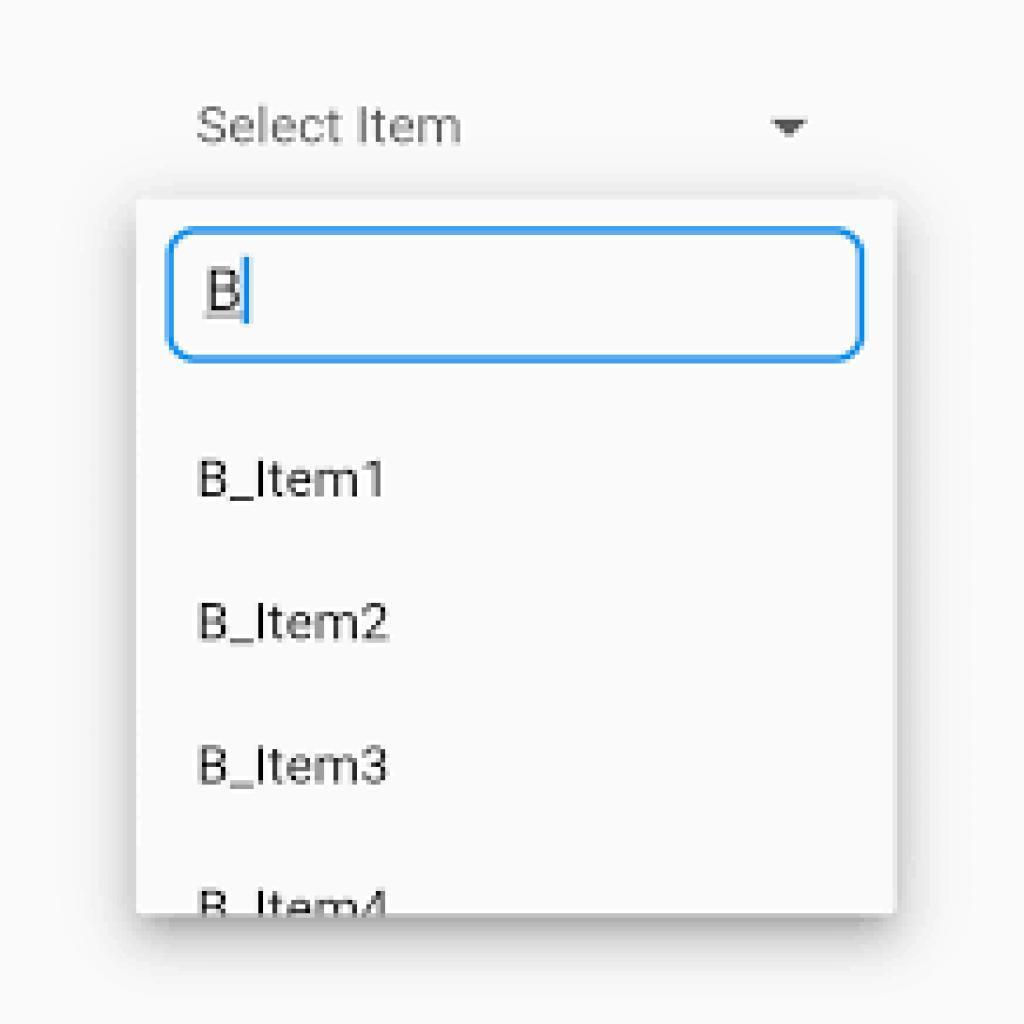input: (173, 235, 858, 360)
